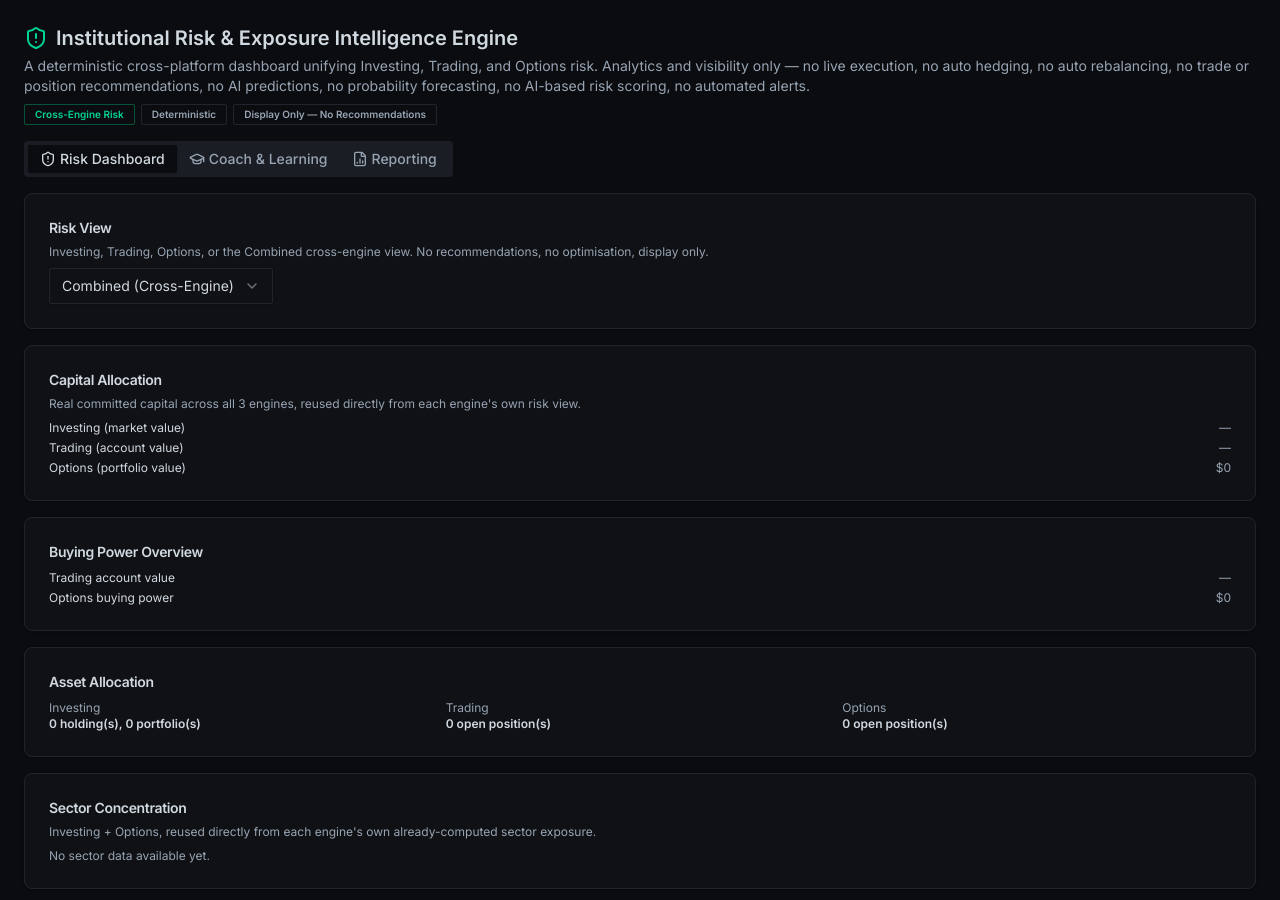
Scenario: RiskExposureEngine › switches to the Investing view and shows real, non-fabricated holdings
The width and height of the screenshot is (1280, 900).
Click the dropdown with test id "risk-view-select": (161,286) [49,268,273,304]
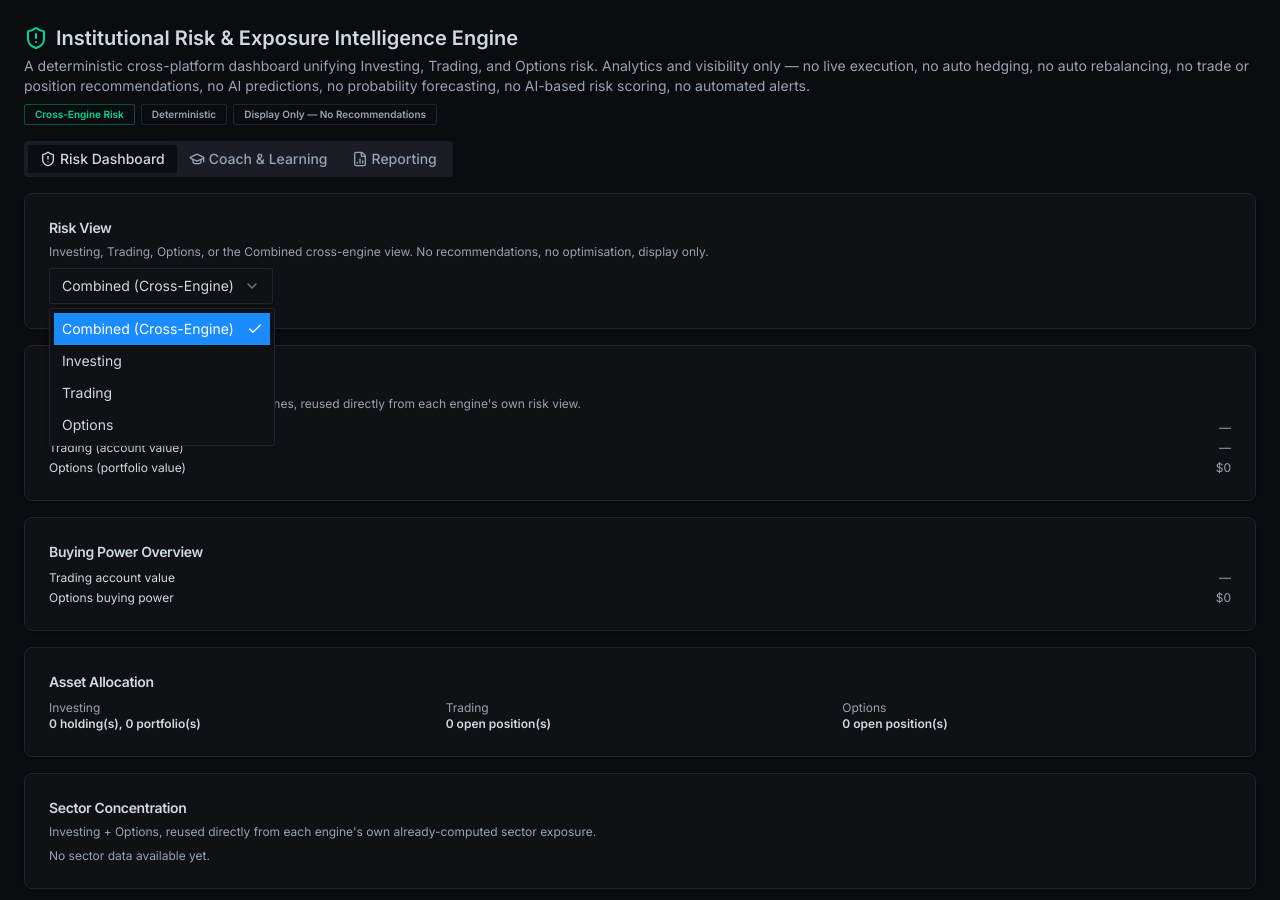
Click the option with test id "risk-view-option-investing": (92,360) [62,352,122,369]
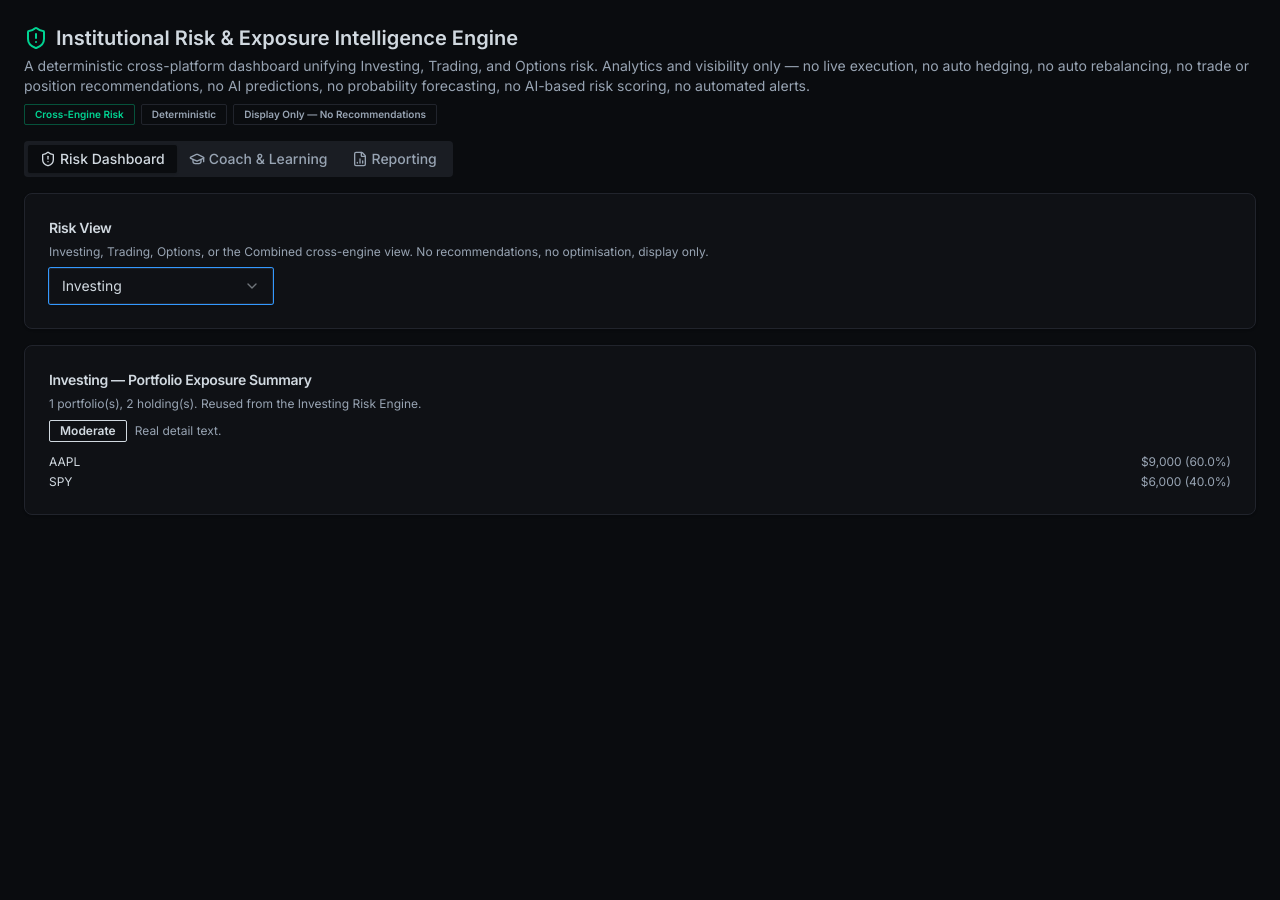
Expected: the element with test id "panel-ree-investing" is shown, [24,345,1256,515]
Expected: the element with test id "investing-symbol-AAPL" is shown, [49,454,1231,470]
Expected: the element with test id "investing-symbol-SPY" is shown, [49,474,1231,490]
